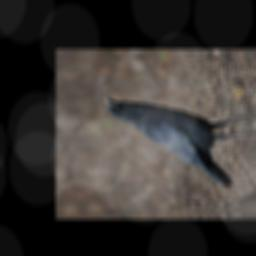Crow: (103, 87, 256, 196)
